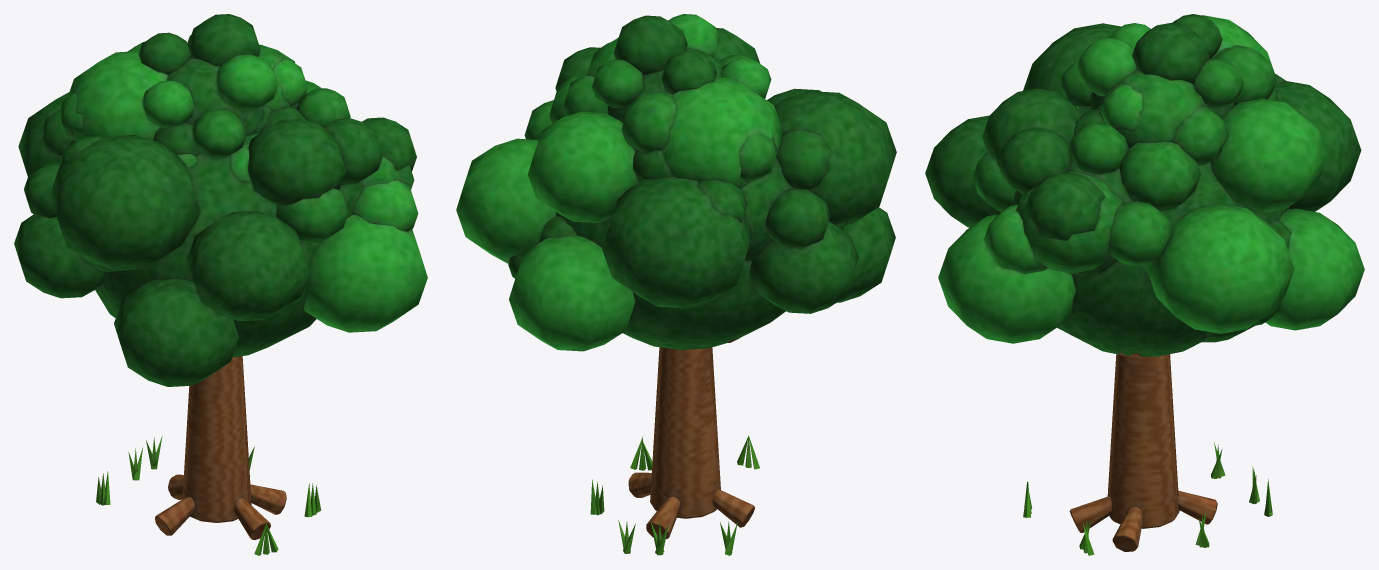
The model's file is tangerine_tree.glb.
3 views of the same model, side by side, from view 1: azimuth 30°, elevation 25°; view 2: azimuth 150°, elevation 25°; view 3: azimuth 270°, elevation 25° (orthographic). The views are drawn at different scales.
Visible parts, largest first — view 1: crown, tangerine_tree; view 2: crown, tangerine_tree; view 3: crown, tangerine_tree.
Boxes of the visible parts, box(x1,y1,x2,y2) form: crown: box(14, 14, 427, 386); tangerine_tree: box(96, 356, 321, 555); crown: box(456, 14, 896, 351); tangerine_tree: box(590, 337, 759, 555); crown: box(925, 14, 1364, 356); tangerine_tree: box(1023, 352, 1272, 555).
Size of the model in its own units: 1.07 by 1.38 by 1.08.
1 material, 1 textured.
